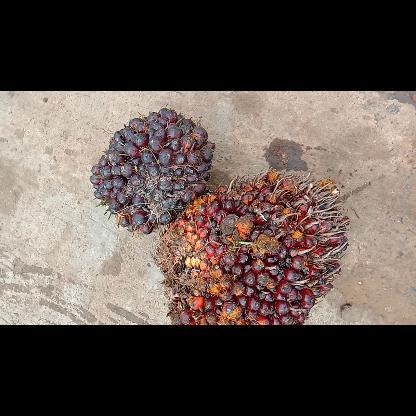TBS masak: (152, 166, 348, 324)
TBS mentah: (88, 107, 216, 233)
